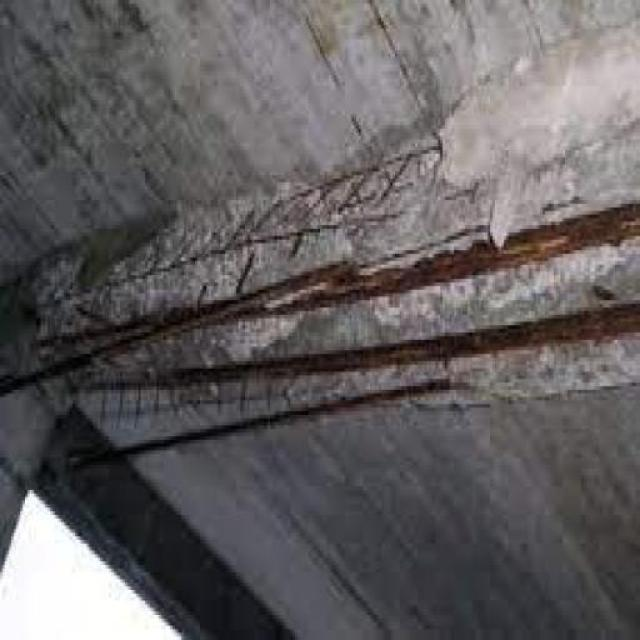D0w0: (36, 145, 639, 448)
